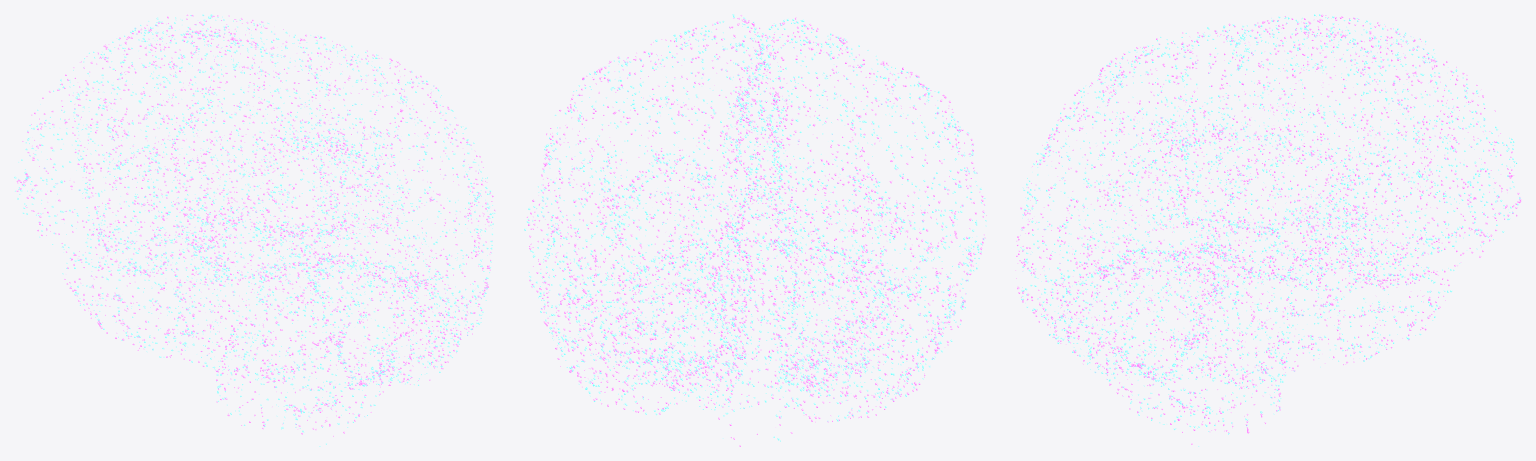
The model's file is kortex-brain-low.glb.
3 views of the same model, side by side, from view 1: azimuth 30°, elevation 25°; view 2: azimuth 150°, elevation 25°; view 3: azimuth 270°, elevation 25° (orthographic). The views are drawn at different scales.
Parts seen in each view (by area): view 1: Icosphere.10807, Icosphere.10807_node; view 2: Icosphere.10807_node, Icosphere.10807; view 3: Icosphere.10807, Icosphere.10807_node.
Boxes of the visible parts, <box> form: Icosphere.10807: <box>16,14,495,436</box>; Icosphere.10807_node: <box>14,14,495,446</box>; Icosphere.10807_node: <box>524,14,986,441</box>; Icosphere.10807: <box>526,15,986,446</box>; Icosphere.10807: <box>1015,14,1521,444</box>; Icosphere.10807_node: <box>1020,14,1520,446</box>.
Size of the model in its own units: 109 by 110 by 130.
